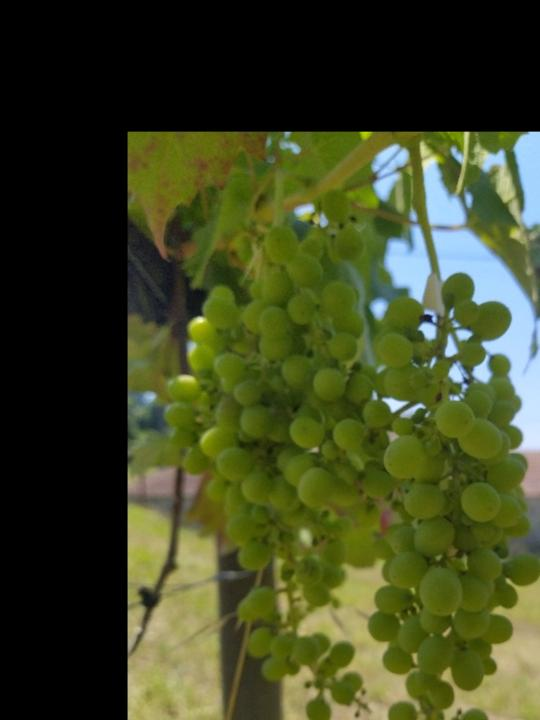grape: (164, 192, 380, 720), (366, 271, 540, 720)
